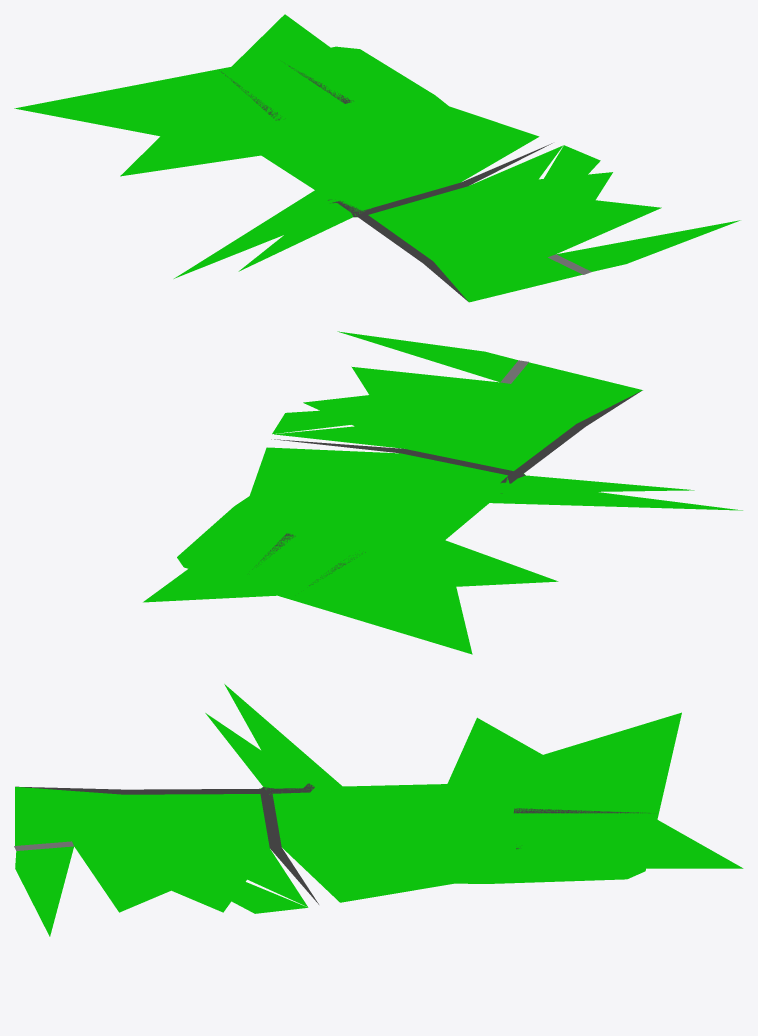
3 views of the same model, one above another, from view 1: azimuth 30°, elevation 25°; view 2: azimuth 150°, elevation 25°; view 3: azimuth 270°, elevation 25° (orthographic). The views are drawn at different scales.
Bounding box in the file's own units: 230 × 0 × 210.
